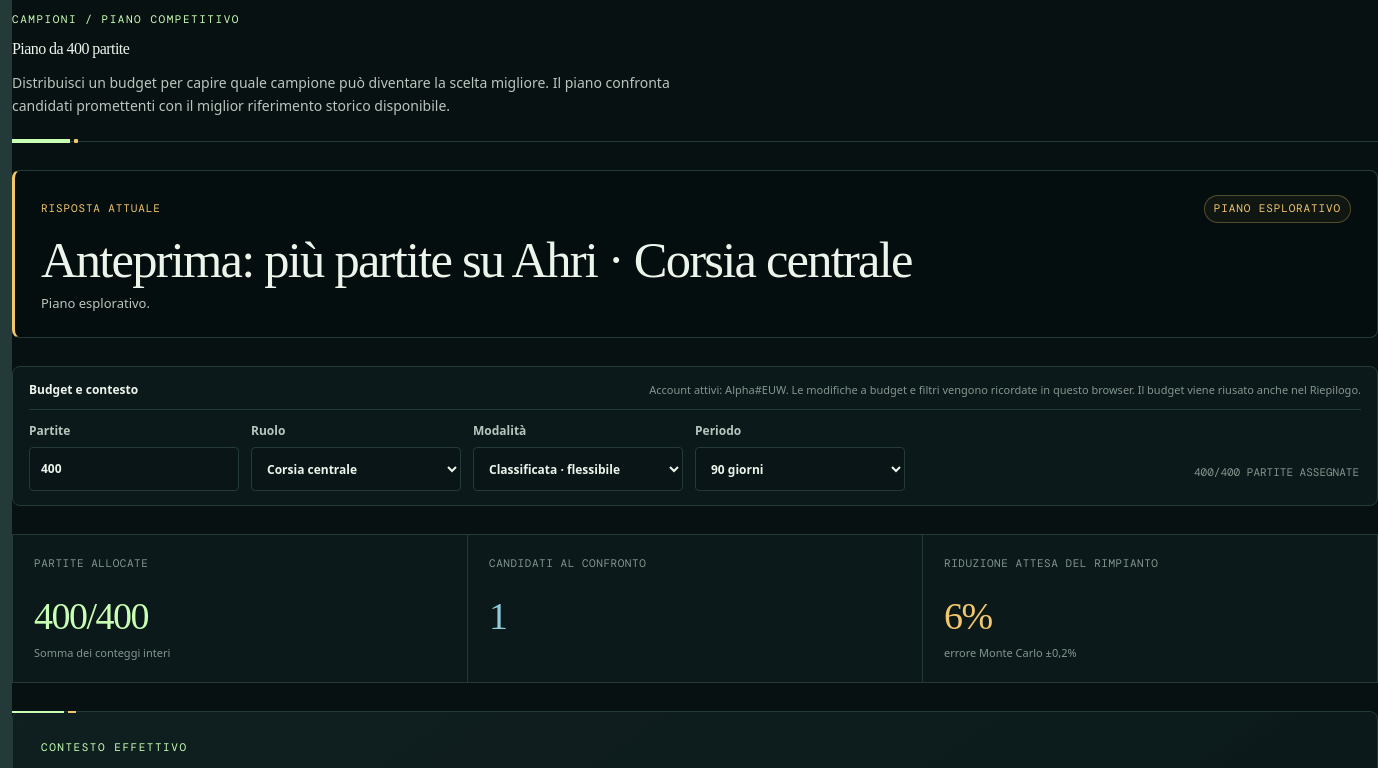
it: piano competitivo › limita il draft  soltanto quando perde il focus
Clear the number field named "Budget partite" at (134, 469), box [29,447,239,491]
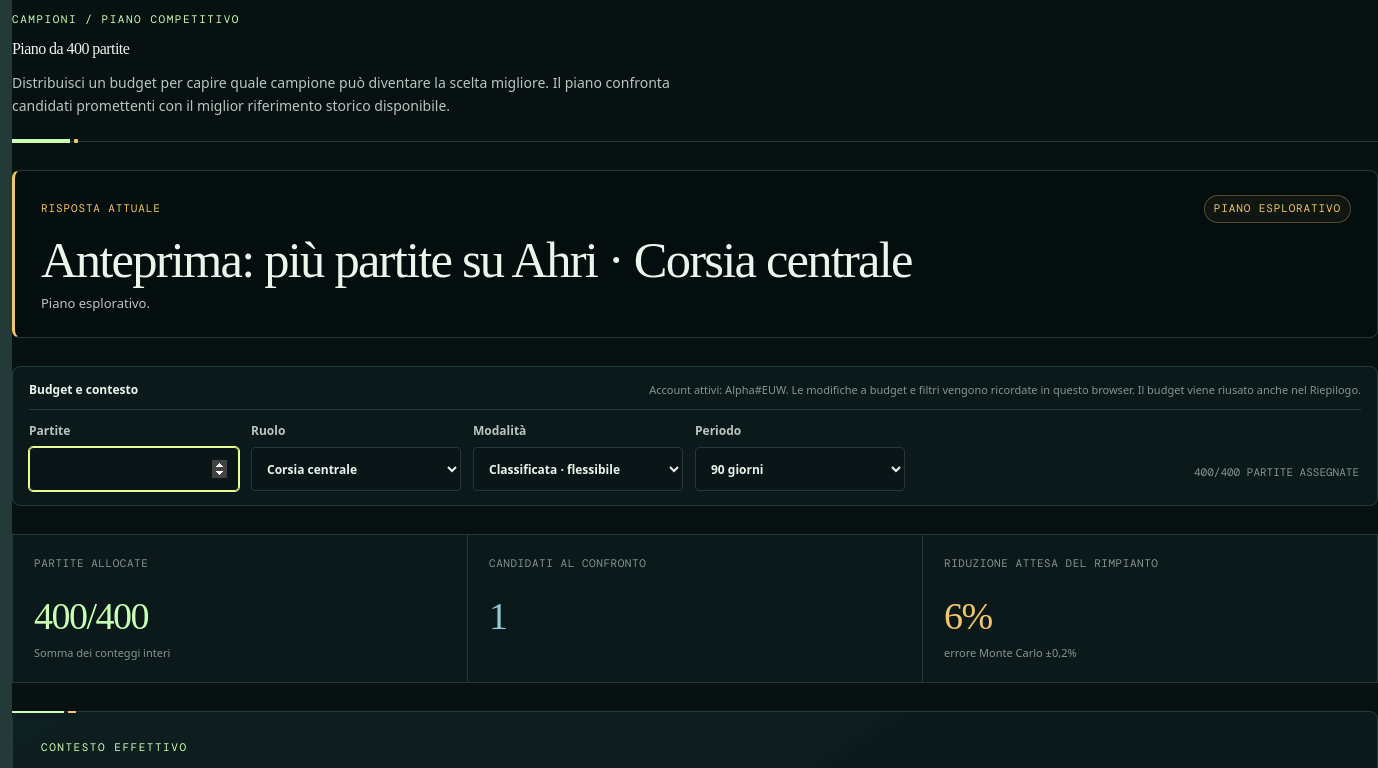
Press Tab
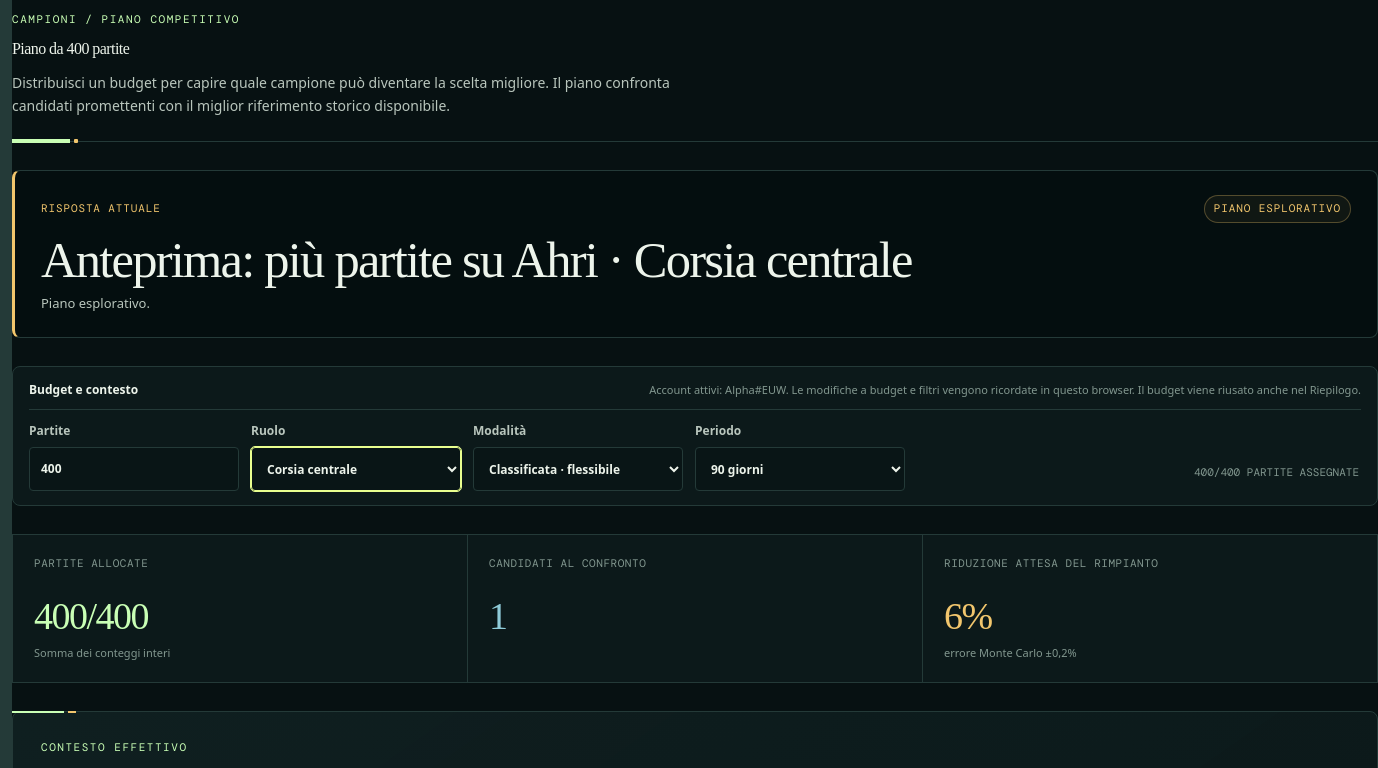
Expected: the heading "Piano da 400 partite" is shown, [12,40,129,57]
Now the number field named "Budget partite" holds "400", box [29,447,239,491]
